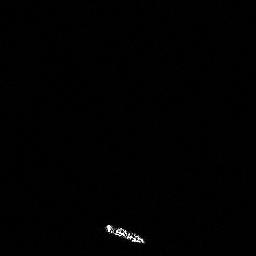ship: (104, 223, 146, 245)
